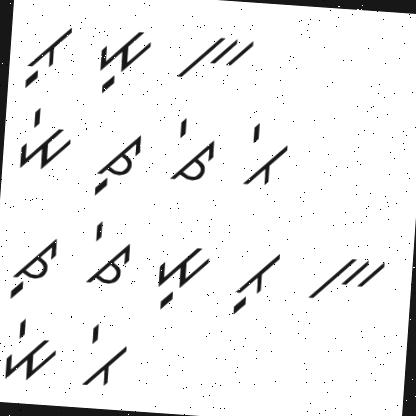be: (71, 320, 140, 392), (240, 119, 298, 191)
bu: (228, 243, 288, 324), (20, 18, 79, 91)
ce: (80, 214, 138, 294), (166, 115, 221, 186)
cu: (6, 216, 66, 304), (84, 124, 150, 202)
me: (13, 101, 78, 176), (0, 317, 61, 385)
mu: (144, 236, 218, 318), (92, 18, 156, 100)
